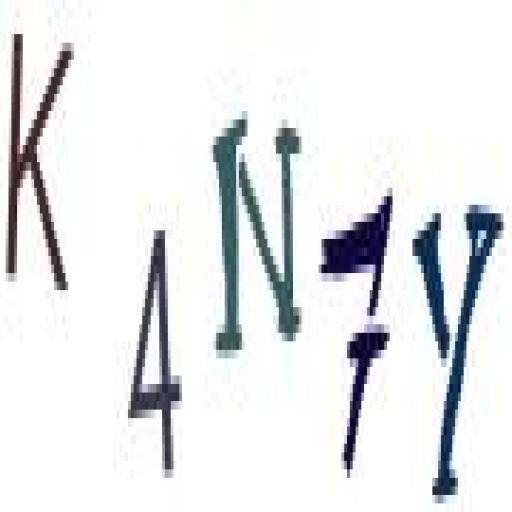4: (123, 209, 187, 484)
7: (316, 190, 400, 495)
K: (2, 15, 82, 303)
N: (207, 95, 304, 377)
Y: (412, 187, 506, 512)
